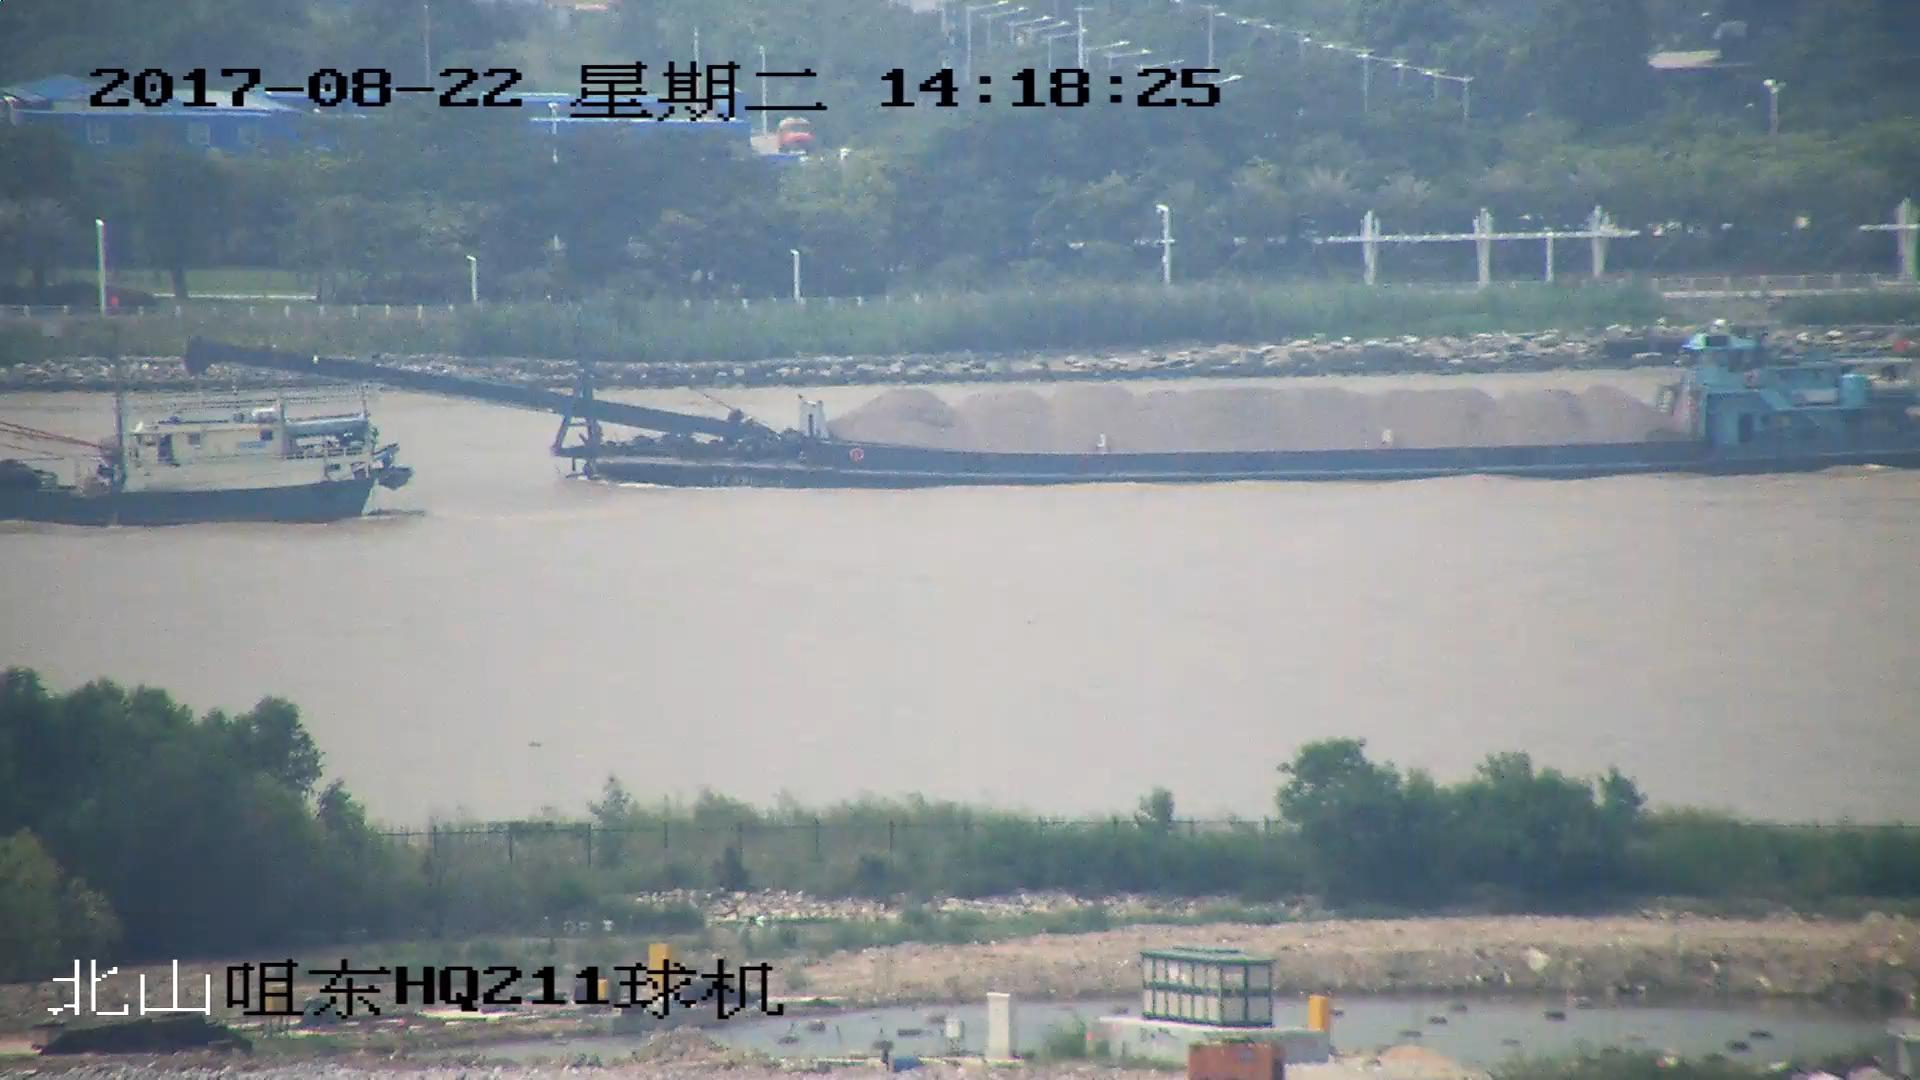Ship: (189, 326, 1920, 492), (3, 291, 419, 525)
